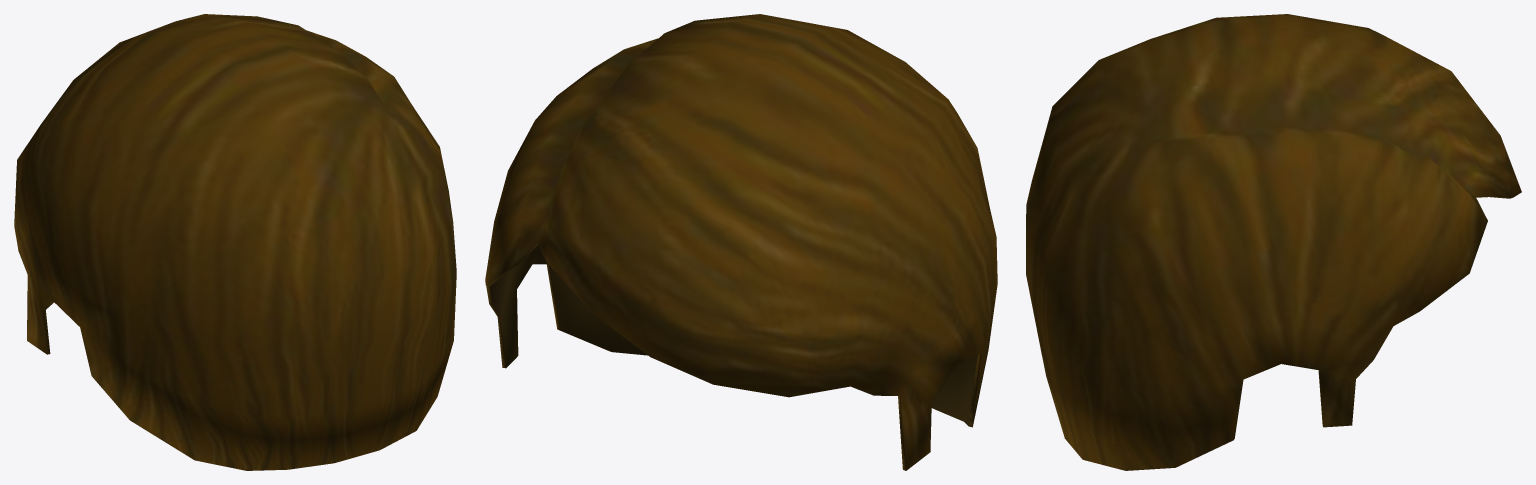
The model's file is acc.glb.
The picture shows the model from 3 angles, left to right: view 1: azimuth 30°, elevation 25°; view 2: azimuth 150°, elevation 25°; view 3: azimuth 270°, elevation 25°; orthographic projection. The views are drawn at different scales.
Visible parts, largest first — view 1: Handle; view 2: Handle; view 3: Handle.
Part boxes in pixels (x1,y1,x2,y2): Handle: (14,14,456,470); Handle: (485,14,997,470); Handle: (1026,14,1521,470).
Bounding box in the file's own units: 1.28 × 1.19 × 1.4.
1 material, 1 textured.
